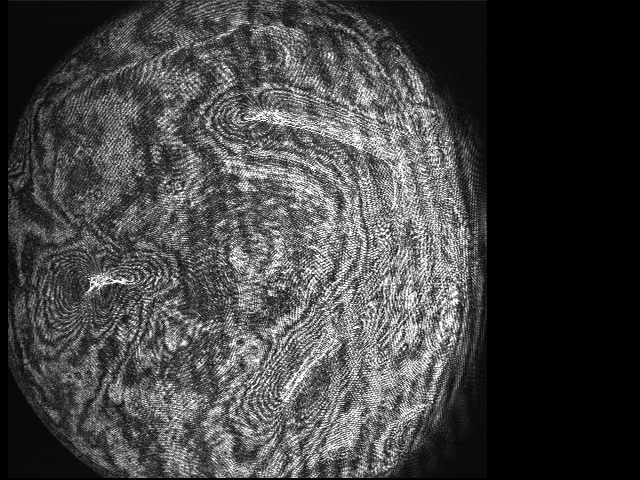plume: (34, 248, 171, 328)
